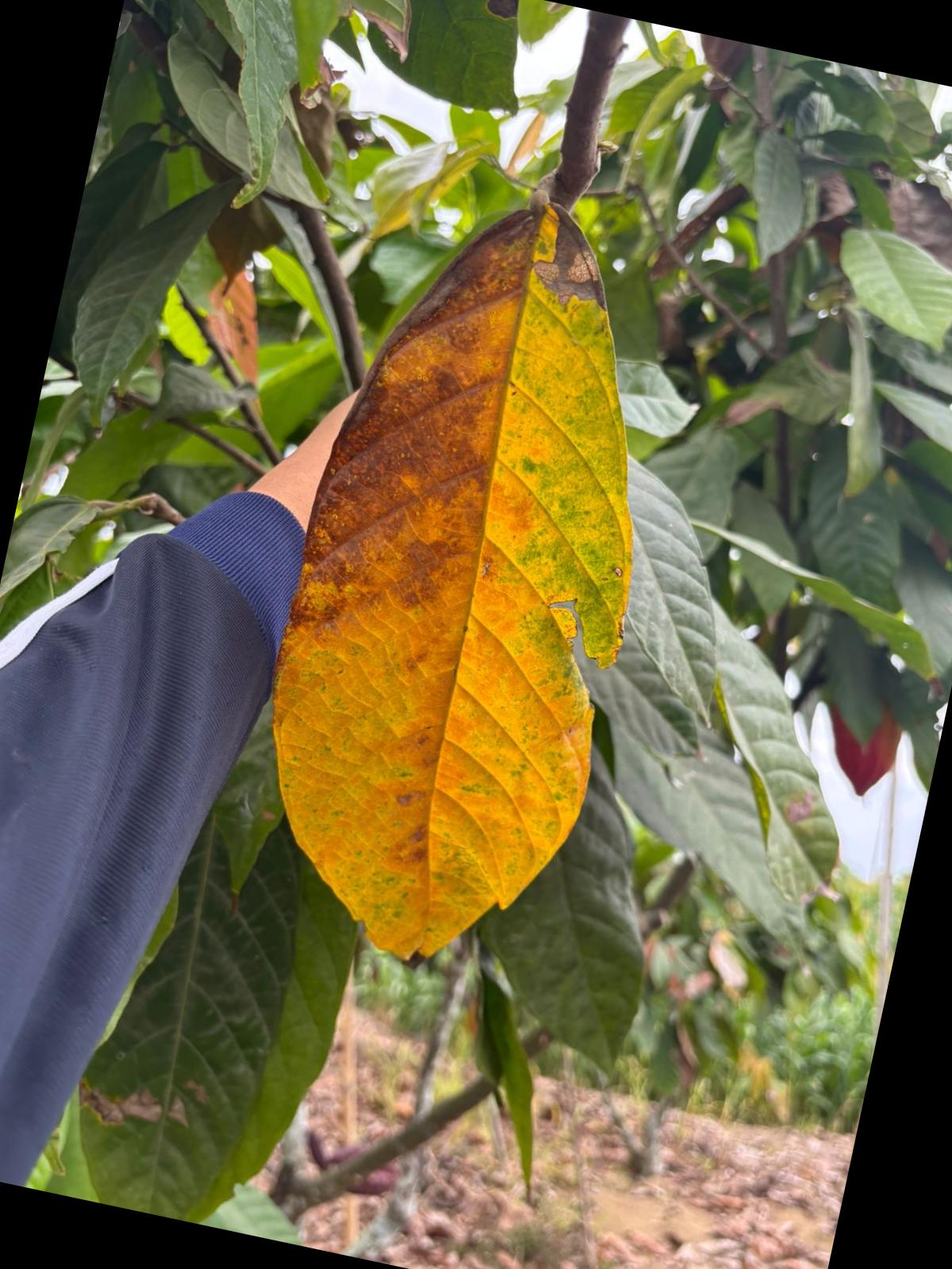Fosforo: (274, 196, 632, 957)
